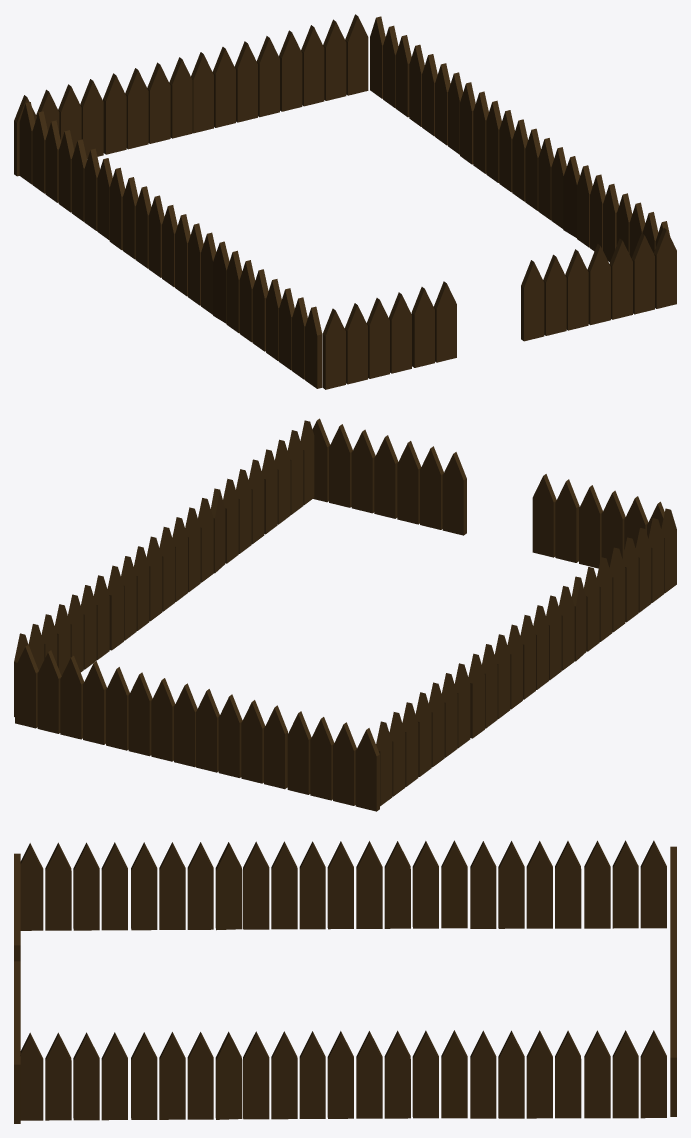
File: fence.obj
3 views of the same model, one above another, from view 1: azimuth 30°, elevation 25°; view 2: azimuth 150°, elevation 25°; view 3: azimuth 270°, elevation 25° (orthographic). The views are drawn at different scales.
Parts seen in each view (by area): view 1: fence.065, fence.015, fence.006, fence.004, fence.070, fence.072, fence.003, fence.011, fence.062, fence.063, fence.071, fence.005 (+59 smaller); view 2: fence.006, fence.077, fence.065, fence.063, fence.067, fence.074, fence.010, fence.011, fence.071, fence.003, fence.002, fence.004 (+59 smaller); view 3: fence.016, fence.032, fence.024, fence.035, fence.029, fence.022, fence.026, fence.030, fence.045, fence.047, fence.041, fence.042 (+36 smaller).
Part boxes in pixels (left/top/right/bottom): fence.065: left=103, top=73, right=126, bottom=154; fence.015: left=322, top=308, right=345, bottom=389; fence.006: left=521, top=260, right=544, bottom=341; fence.004: left=565, top=249, right=588, bottom=330; fence.070: left=345, top=14, right=368, bottom=95; fence.072: left=301, top=25, right=324, bottom=106; fence.003: left=411, top=287, right=434, bottom=367; fence.011: left=587, top=244, right=610, bottom=325; fence.062: left=169, top=57, right=192, bottom=138; fence.063: left=147, top=62, right=170, bottom=143; fence.071: left=323, top=19, right=346, bottom=100; fence.005: left=543, top=254, right=566, bottom=335; fence.006: left=442, top=452, right=466, bottom=535; fence.077: left=355, top=728, right=379, bottom=811; fence.065: left=264, top=705, right=287, bottom=789; fence.063: left=218, top=694, right=242, bottom=777; fence.067: left=128, top=672, right=152, bottom=756; fence.074: left=287, top=711, right=311, bottom=794; fence.010: left=351, top=429, right=375, bottom=513; fence.011: left=374, top=435, right=398, bottom=518; fence.071: left=37, top=650, right=61, bottom=733; fence.003: left=555, top=479, right=579, bottom=562; fence.002: left=532, top=474, right=556, bottom=557; fence.004: left=397, top=441, right=421, bottom=524; fence.016: left=215, top=1031, right=242, bottom=1119; fence.032: left=215, top=842, right=242, bottom=930; fence.024: left=441, top=1030, right=467, bottom=1118; fence.035: left=584, top=1030, right=610, bottom=1118; fence.029: left=73, top=1032, right=99, bottom=1120; fence.022: left=271, top=1031, right=297, bottom=1119; fence.026: left=384, top=1030, right=410, bottom=1118; fence.030: left=45, top=1032, right=71, bottom=1120; fence.045: left=526, top=1030, right=552, bottom=1118; fence.047: left=470, top=1030, right=496, bottom=1118; fence.041: left=271, top=841, right=297, bottom=929; fence.042: left=243, top=841, right=269, bottom=929.
Bounding box in the file's own units: 0.5055 × 0.1041 × 0.7184.
Materials: 1 (1 with a texture image).
